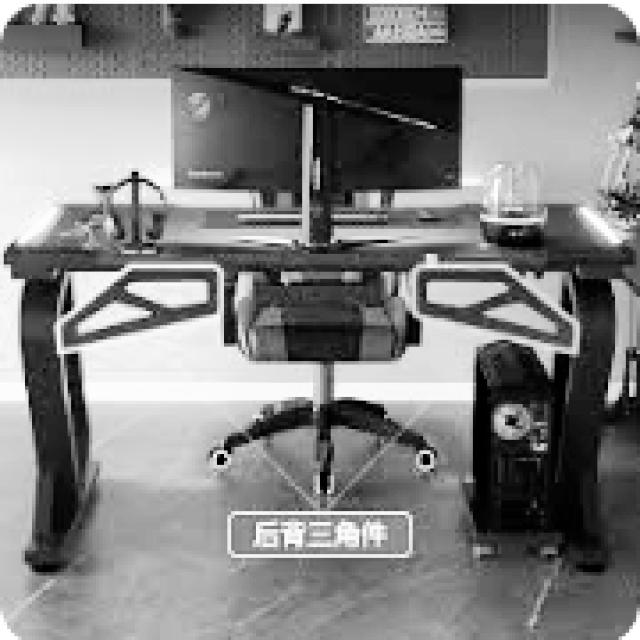table: (0, 193, 636, 572)
